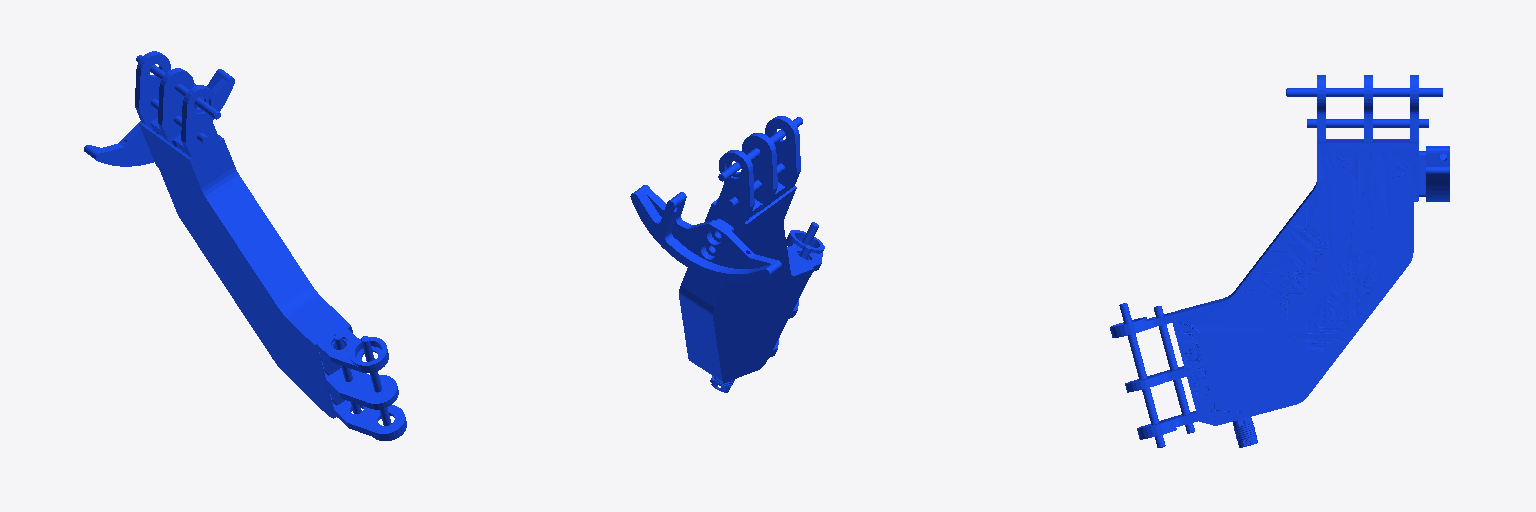
3 views of the same model, side by side, from view 1: azimuth 30°, elevation 25°; view 2: azimuth 150°, elevation 25°; view 3: azimuth 270°, elevation 25° (orthographic).
Visible parts, largest first — view 1: /ambf/env/raven_2/link1_L; view 2: /ambf/env/raven_2/link1_L; view 3: /ambf/env/raven_2/link1_L.
Part boxes in pixels (bbox=[...]): /ambf/env/raven_2/link1_L: bbox=[84, 51, 406, 440]; /ambf/env/raven_2/link1_L: bbox=[630, 116, 824, 392]; /ambf/env/raven_2/link1_L: bbox=[1110, 75, 1449, 447].
Bounding box in the file's own units: 0.1147 × 0.2043 × 0.1945.